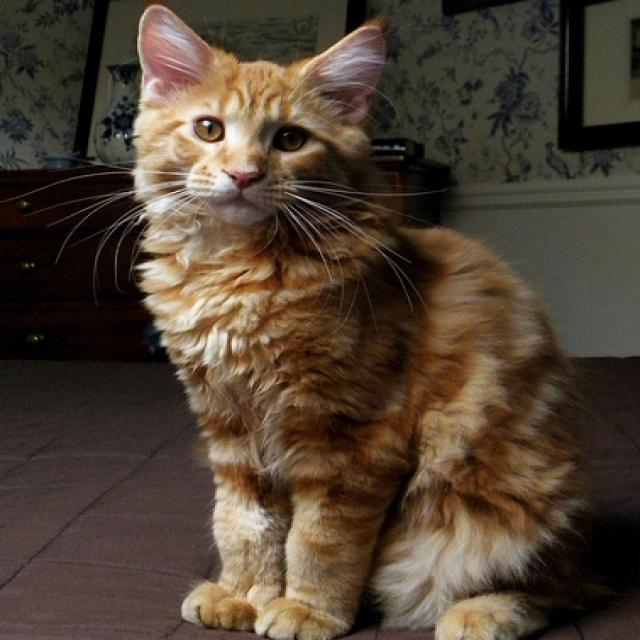Maine Coon: (125, 0, 596, 640)
